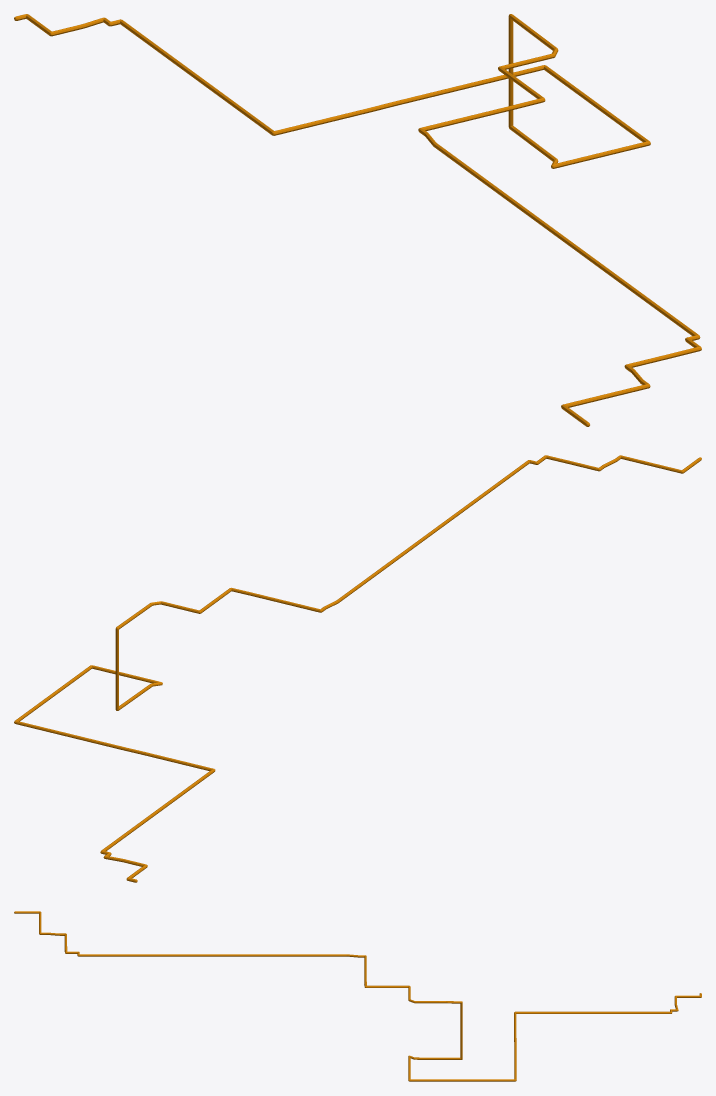
3 views of the same model, one above another, from view 1: azimuth 30°, elevation 25°; view 2: azimuth 150°, elevation 25°; view 3: azimuth 270°, elevation 25° (orthographic). The views are drawn at different scales.
Bounding box in the file's own units: 2131 × 520 × 5516.
